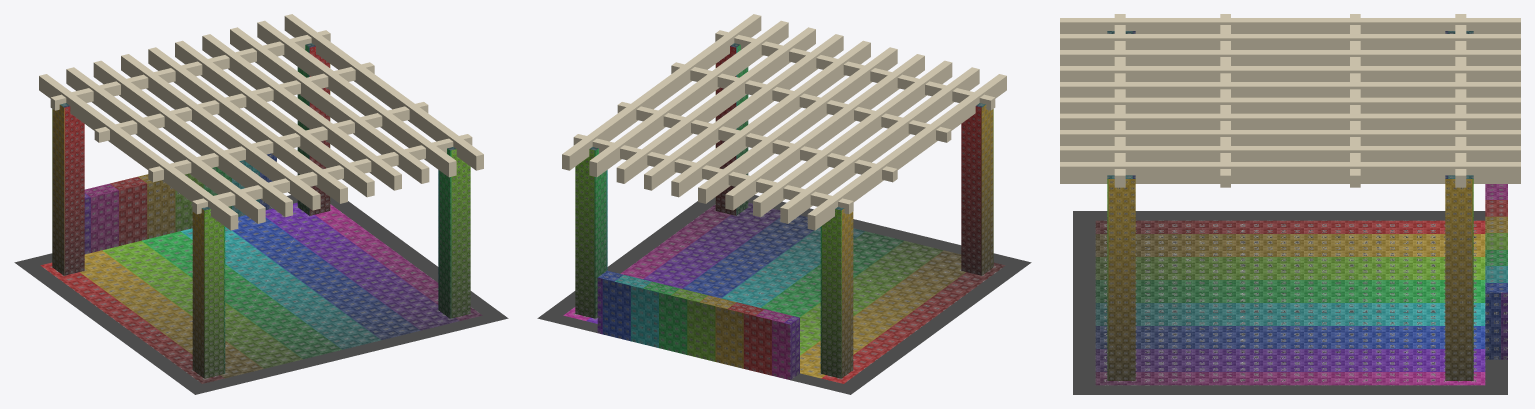
File: Patios-Pergolas.glb
3 views of the same model, side by side, from view 1: azimuth 30°, elevation 25°; view 2: azimuth 150°, elevation 25°; view 3: azimuth 270°, elevation 25° (orthographic). The views are drawn at different scales.
Parts seen in each view (by area): view 1: Patios_pergolas, main_change3, main_change, main_change2; view 2: Patios_pergolas, main_change3, main_change, main_change2; view 3: Patios_pergolas, main_change3, main_change, main_change2.
Part boxes in pixels (box(x1,y1,x2,y2)): Patios_pergolas: box(14, 14, 508, 394); main_change3: box(40, 202, 482, 383); main_change: box(64, 45, 470, 378); main_change2: box(84, 153, 276, 254); Patios_pergolas: box(537, 14, 1031, 394); main_change3: box(563, 202, 1005, 383); main_change: box(575, 45, 993, 378); main_change2: box(597, 270, 799, 380); Patios_pergolas: box(1060, 14, 1520, 394); main_change3: box(1095, 220, 1485, 385); main_change: box(1107, 179, 1135, 380); main_change2: box(1485, 184, 1507, 359).
Size of the model in its own units: 6.88 by 3.69 by 7.29.
5 materials, 3 textured.
